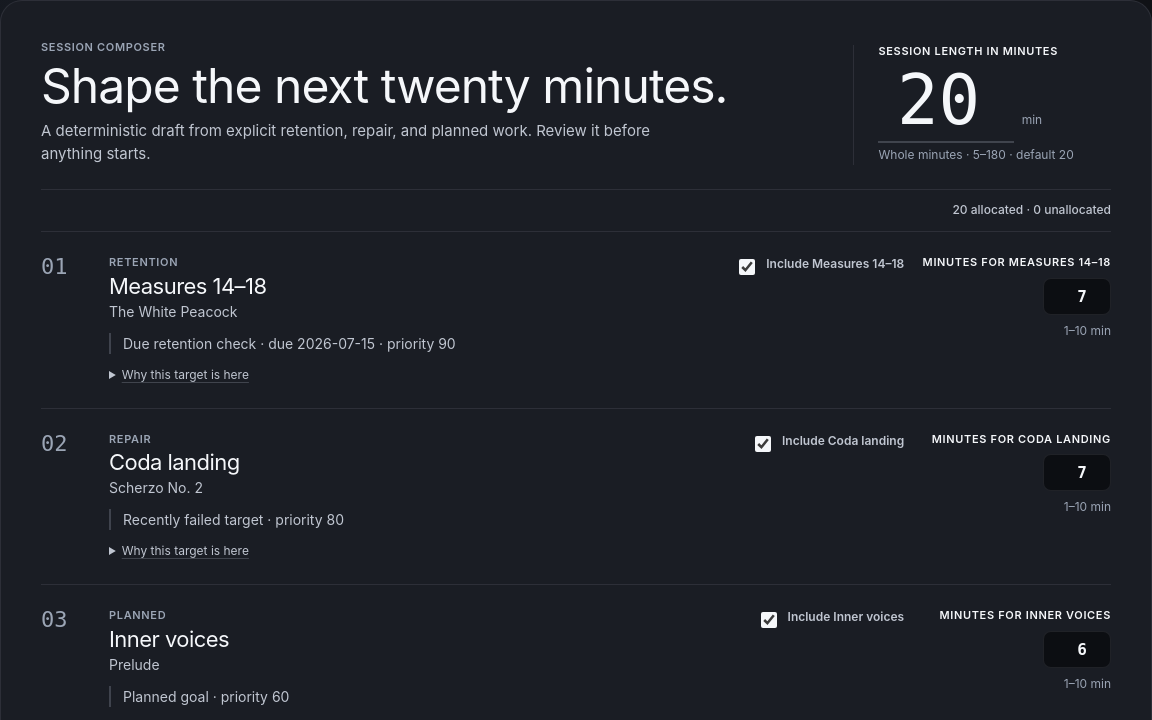
it: SessionComposer › live-validates the session length 4
This screenshot has width=1152, height=720.
Replace the text in the number field labelled "Session length in minutes" with "4" at (946, 101), box x1=878 y1=59 x2=1014 y2=143
(page scrolled)
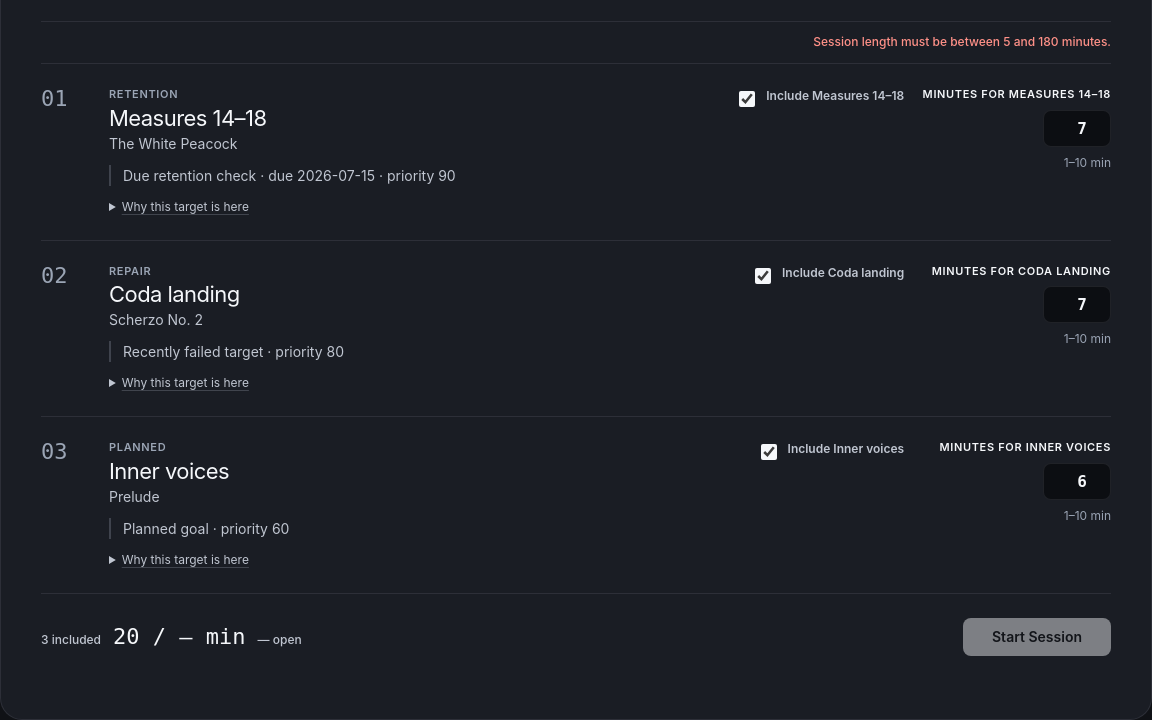
Expected: the text "Session length must be between 5 and 180 minutes." is shown, x1=813 y1=34 x2=1111 y2=49
Expected: the button "Start Session" is disabled, x1=963 y1=618 x2=1111 y2=656
